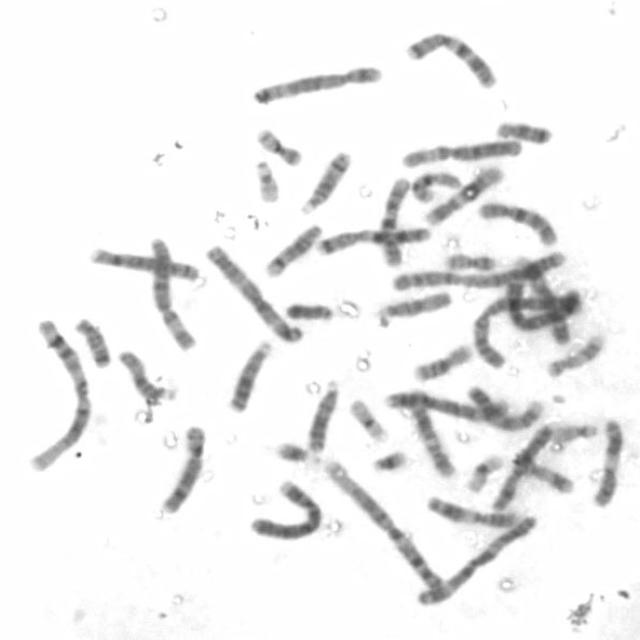A1: (318, 457, 449, 595), (23, 314, 94, 475)
A2: (472, 285, 584, 370), (388, 248, 570, 292)
A3: (412, 508, 541, 606), (201, 240, 304, 344)
B4: (503, 255, 582, 333), (246, 476, 324, 541)
B5: (248, 60, 384, 107), (383, 389, 511, 426)
C10: (475, 196, 560, 248), (376, 173, 411, 269)
C11: (587, 412, 626, 510), (423, 492, 522, 529)
C12: (419, 160, 506, 227), (402, 387, 458, 479)
C6: (142, 232, 198, 351), (397, 135, 525, 170)
C7: (402, 26, 499, 90), (312, 221, 433, 258)
C8: (156, 422, 208, 515), (84, 244, 201, 283)
C9: (512, 252, 575, 348), (461, 380, 547, 433)
D13: (224, 335, 274, 414), (303, 375, 342, 454)
D14: (296, 146, 354, 216), (259, 219, 324, 279)
D15: (113, 344, 165, 406), (374, 286, 454, 326)
E16: (411, 340, 477, 384), (410, 170, 465, 207)
E17: (507, 446, 578, 496), (542, 330, 608, 378)
E18: (70, 313, 114, 369), (492, 116, 555, 147)
F19: (345, 394, 391, 444), (462, 449, 506, 494)
F20: (252, 122, 306, 168), (439, 248, 500, 272)
G21: (366, 444, 410, 474), (271, 437, 314, 466)
G22: (249, 156, 282, 204), (551, 418, 601, 447)
X: (489, 423, 556, 513)
Y: (280, 298, 336, 323)
